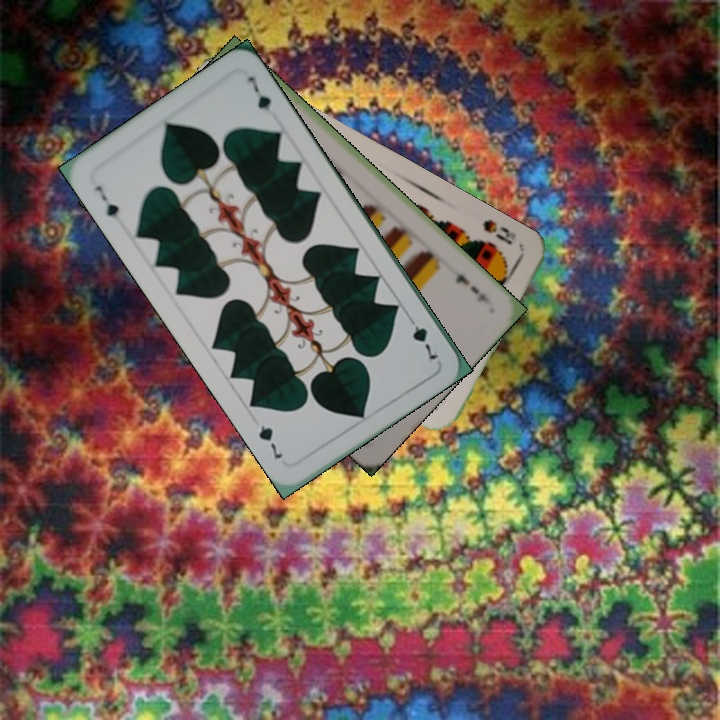E7: (451, 269, 493, 308)
G7: (402, 310, 441, 363), (91, 181, 122, 221)
S8: (478, 215, 519, 248)
